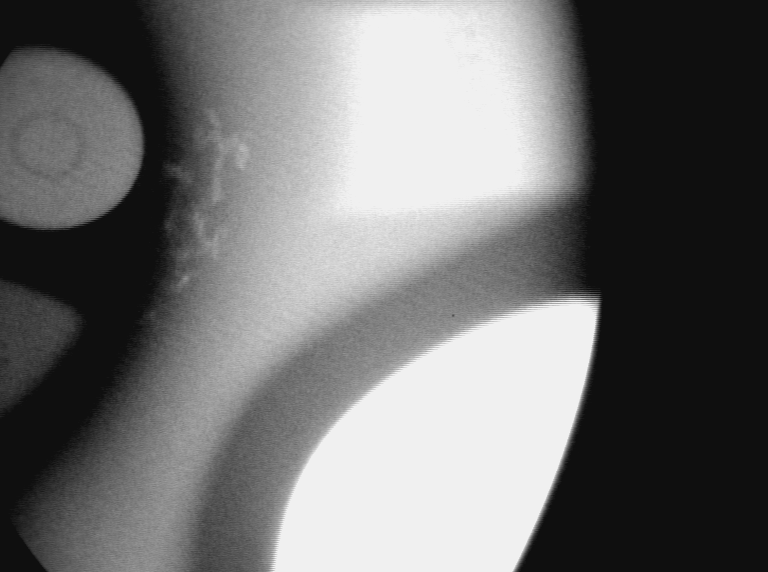defect: (138, 305, 170, 331)
